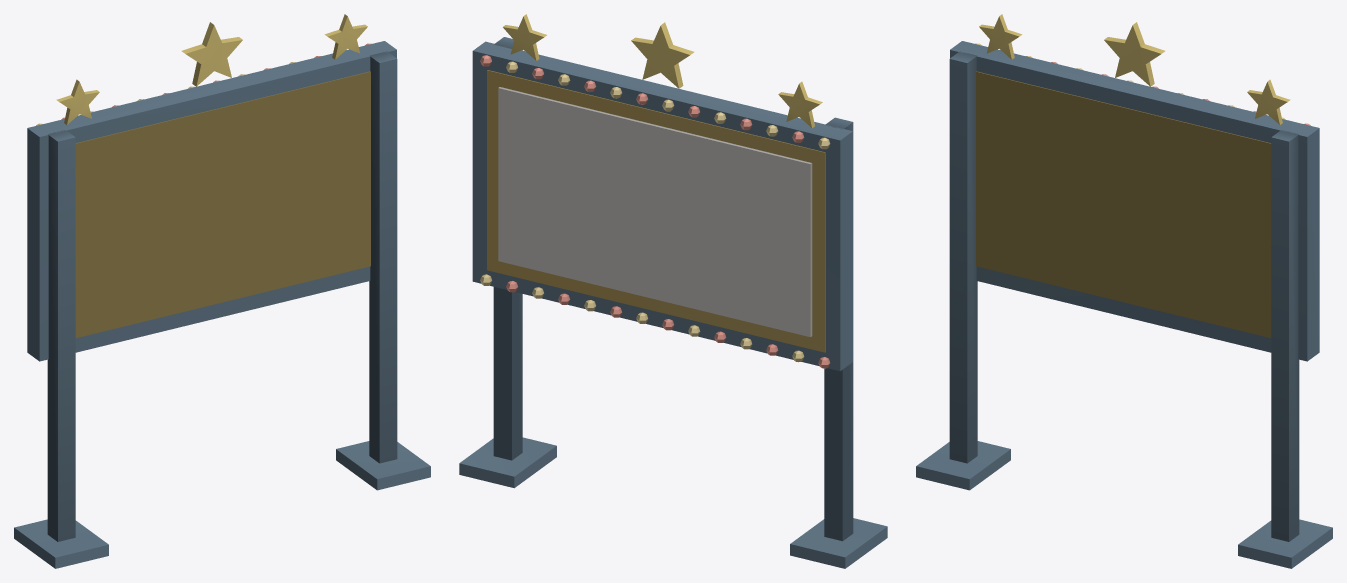
File: newyear_countdown_board.glb
The picture shows the model from 3 angles, left to right: view 1: azimuth 30°, elevation 25°; view 2: azimuth 150°, elevation 25°; view 3: azimuth 330°, elevation 25°; orthographic projection. The views are drawn at different scales.
Size of the model in its own units: 2.1 by 2.55 by 0.4.
